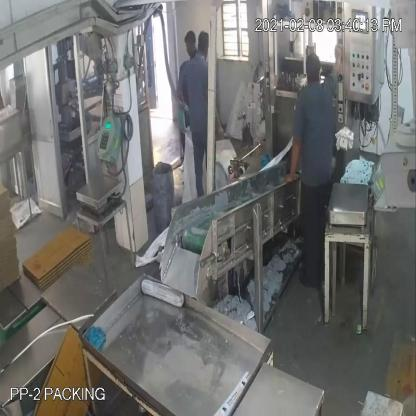no_glove: (282, 127, 304, 190), (332, 41, 344, 85)
